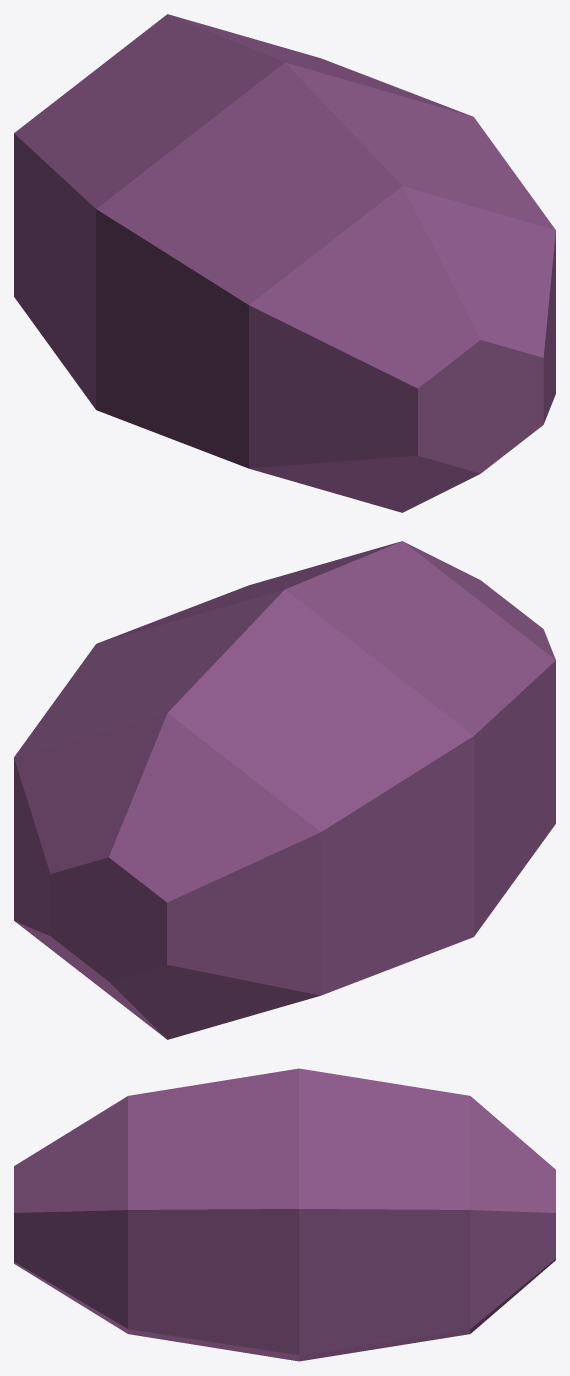
Rendered from peeledShallot.obj.
3 renders of one model, top to bottom at view 1: azimuth 30°, elevation 25°; view 2: azimuth 150°, elevation 25°; view 3: azimuth 270°, elevation 25°, orthographic. The views are drawn at different scales.
Parts seen in each view (by area): view 1: onion; view 2: onion; view 3: onion.
Boxes of the visible parts, x1,y1,x2,y2 form: onion: (14, 14, 555, 512); onion: (14, 541, 555, 1039); onion: (14, 1068, 555, 1361).
Bounding box in the file's own units: 0.1422 × 0.1447 × 0.2425.
